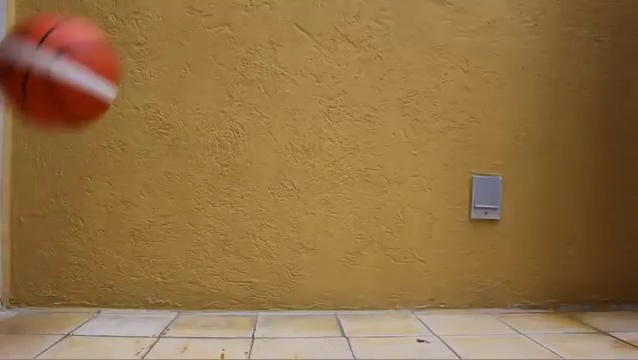ball: (1, 14, 123, 132)
